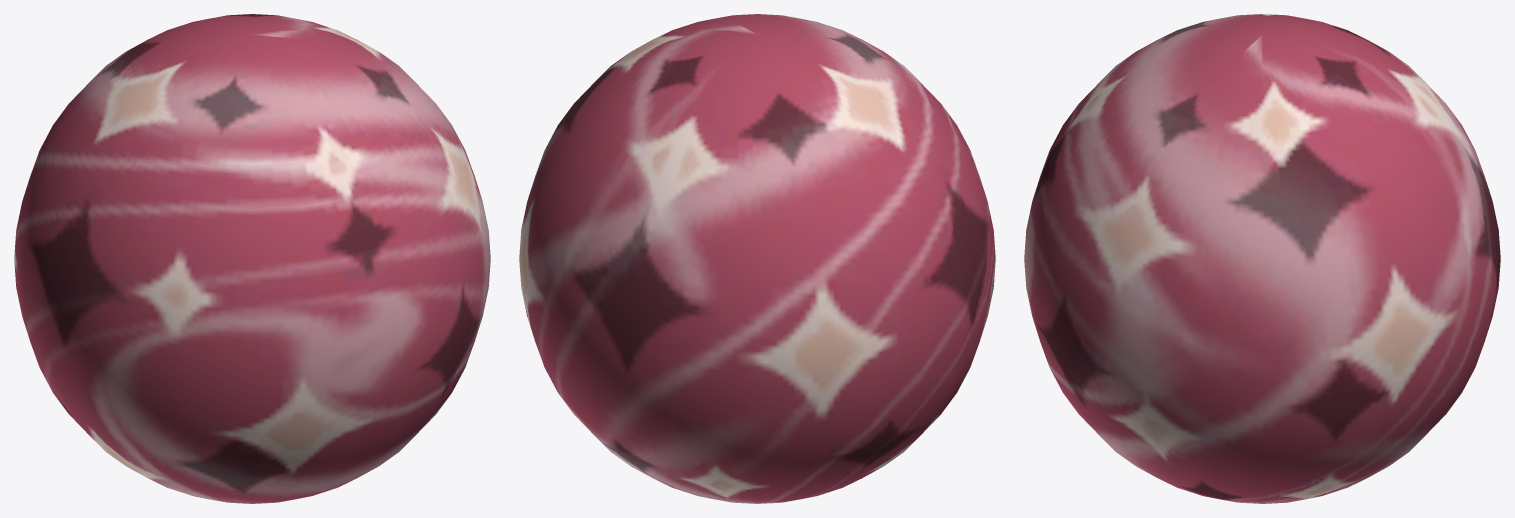
The model's file is bwg_ball_pro__bwg_ball_pink_pro_mirror.glb.
3 views of the same model, side by side, from view 1: azimuth 30°, elevation 25°; view 2: azimuth 150°, elevation 25°; view 3: azimuth 270°, elevation 25° (orthographic).
Visible parts, largest first — view 1: polygon0; view 2: polygon0; view 3: polygon0.
Boxes of the visible parts, left/top/right/bottom form: polygon0: left=14, top=14, right=490, bottom=503; polygon0: left=519, top=14, right=995, bottom=503; polygon0: left=1024, top=14, right=1500, bottom=503.
Bounding box in the file's own units: 2.18 × 2.26 × 2.18.
Materials: 1 (1 with a texture image).
